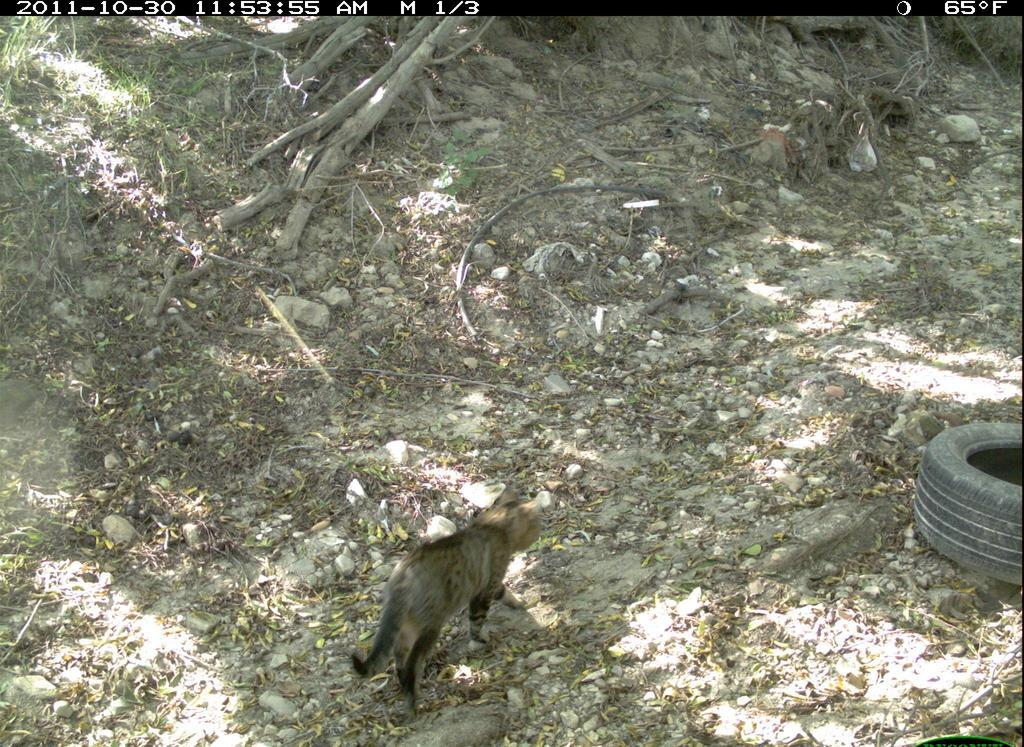cat: (344, 482, 559, 724)
